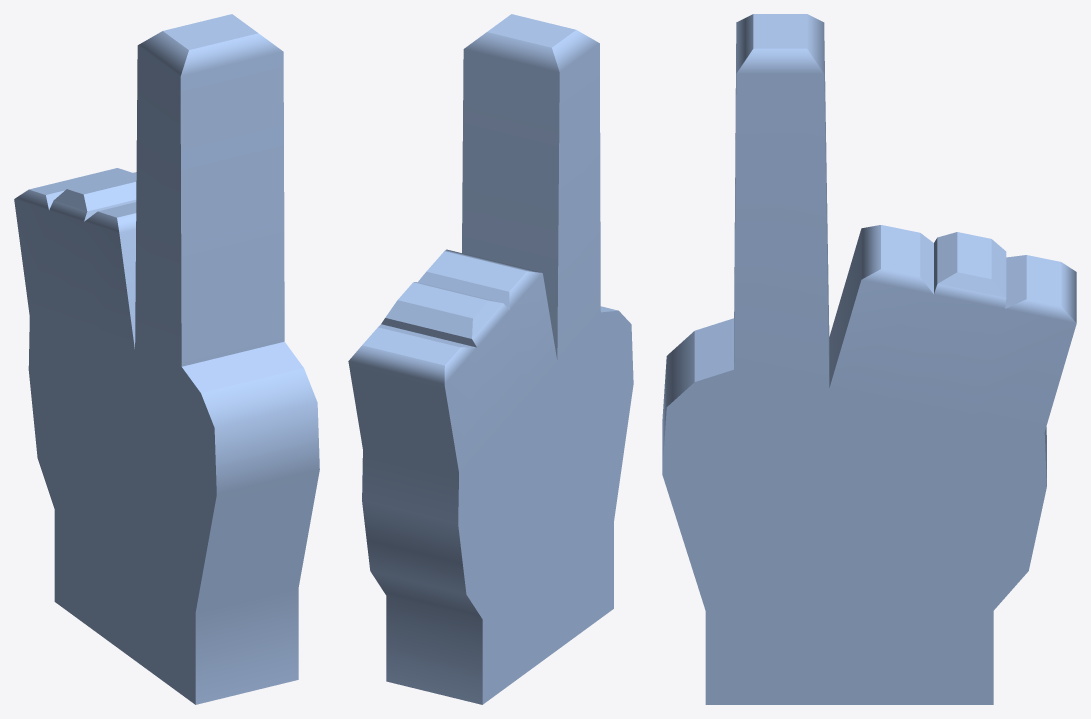
Rendered from Foam Finger.fbx.
3 views of the same model, side by side, from view 1: azimuth 30°, elevation 25°; view 2: azimuth 150°, elevation 25°; view 3: azimuth 270°, elevation 25° (orthographic). The views are drawn at different scales.
Parts seen in each view (by area): view 1: pCube1; view 2: pCube1; view 3: pCube1.
Part boxes in pixels (bbox=[...]): pCube1: bbox=[14, 14, 319, 704]; pCube1: bbox=[348, 14, 633, 704]; pCube1: bbox=[662, 14, 1076, 704].
Size of the model in its own units: 1 by 5.87 by 3.41.
